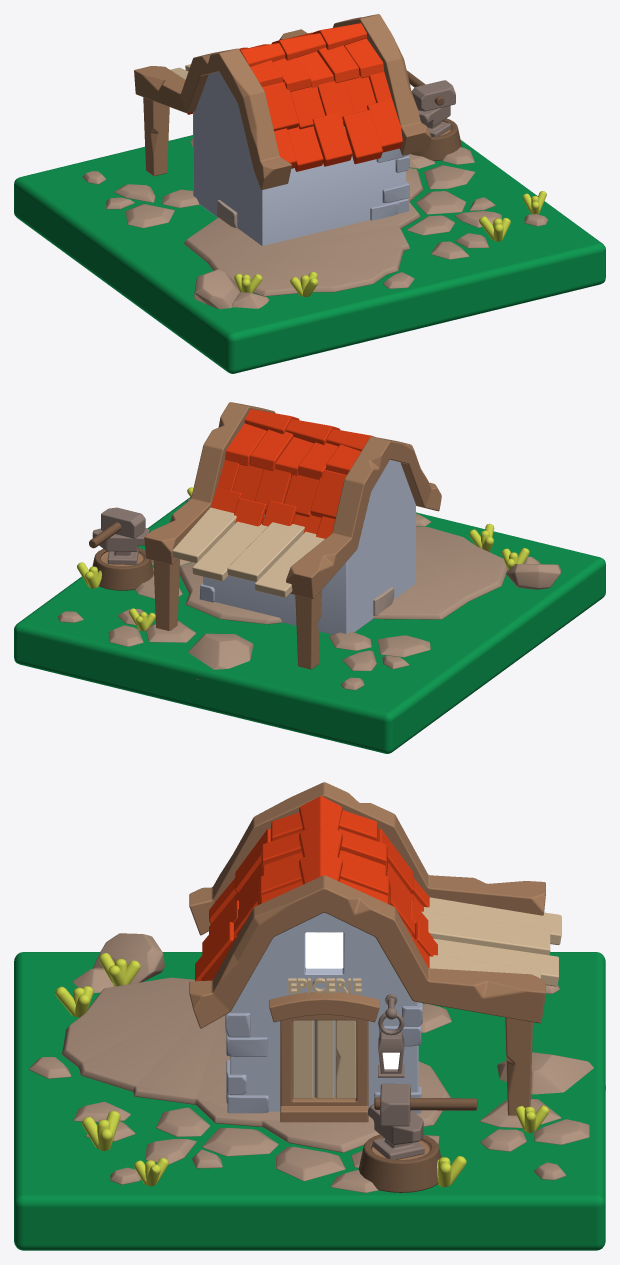
Rendered from TomekHouse.glb.
The picture shows the model from 3 angles, top to bottom: view 1: azimuth 30°, elevation 25°; view 2: azimuth 150°, elevation 25°; view 3: azimuth 270°, elevation 25°; orthographic projection. The views are drawn at different scales.
Visible parts, largest first — view 1: Ground.003, Roof, Rocks, House, Outils, Plane.090, Grass; view 2: Ground.003, Roof, Rocks, House, Outils, Plane.090, Grass; view 3: Ground.003, Roof, Rocks, House, Door, Outils, Grass, Plane.090, Window.001, Texte.001, Plane.070.
Part boxes in pixels (<box>): Ground.003: <box>14,135,605,373</box>; Roof: <box>134,14,431,189</box>; Rocks: <box>82,138,548,308</box>; House: <box>193,72,409,245</box>; Outils: <box>407,70,461,160</box>; Plane.090: <box>143,97,169,176</box>; Grass: <box>234,191,546,296</box>; Ground.003: <box>14,497,605,753</box>; Roof: <box>144,402,441,599</box>; Rocks: <box>58,513,561,690</box>; House: <box>199,460,415,634</box>; Outils: <box>89,507,153,590</box>; Plane.090: <box>153,559,321,669</box>; Grass: <box>77,487,529,631</box>; Ground.003: <box>14,952,605,1250</box>; Roof: <box>189,782,561,1028</box>; Rocks: <box>28,933,605,1192</box>; House: <box>225,913,422,1113</box>; Door: <box>269,991,379,1122</box>; Outils: <box>358,1083,477,1192</box>; Grass: <box>55,953,549,1187</box>; Plane.090: <box>505,1017,532,1115</box>; Window.001: <box>305,932,343,968</box>; Texte.001: <box>288,978,361,993</box>; Plane.070: <box>378,1030,404,1077</box>.
Size of the model in its own units: 8 by 4.34 by 8.
